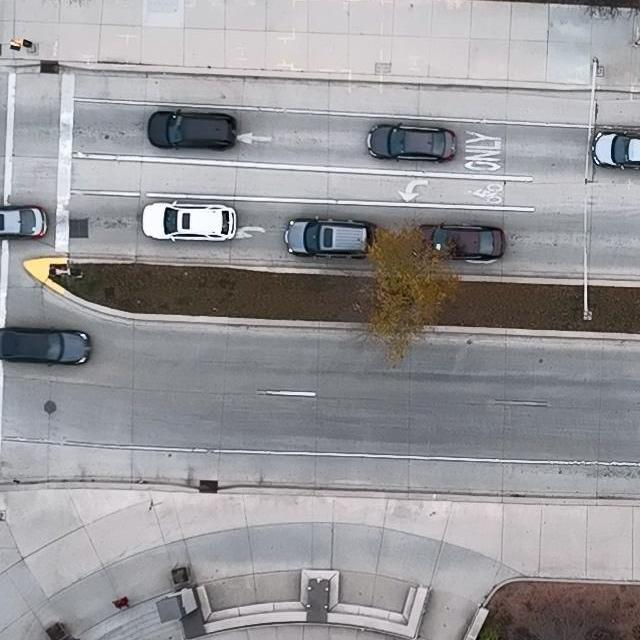car: (142, 199, 238, 244), (285, 215, 378, 260), (147, 108, 236, 151), (0, 326, 91, 367), (415, 223, 505, 263), (367, 123, 458, 161), (591, 129, 640, 171), (0, 204, 48, 239)
